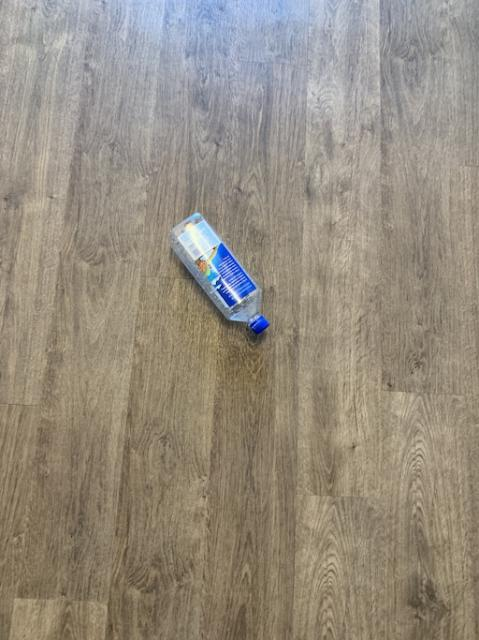plastic: (168, 212, 267, 332)
